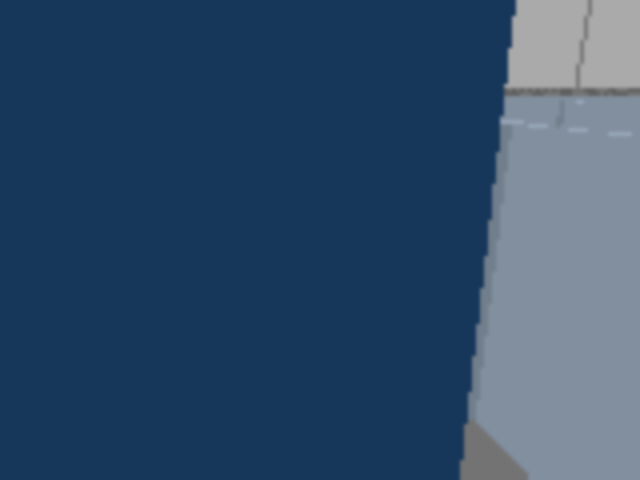goal_zone: (421, 161, 496, 173)
person: (0, 0, 312, 398)
